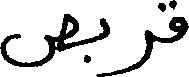X: (0, 9, 77, 71), (117, 25, 151, 76), (84, 13, 107, 76), (158, 0, 188, 47)
